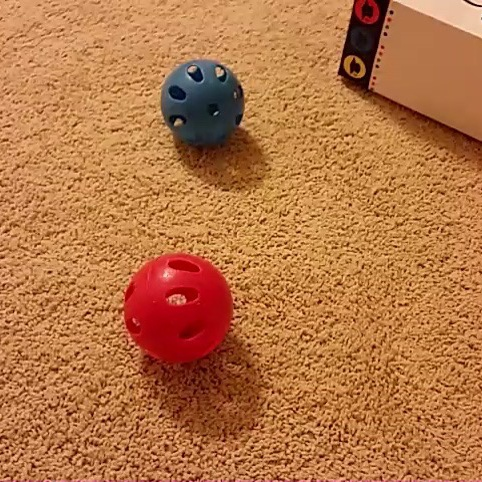ball: (117, 248, 239, 370), (155, 54, 250, 153)
